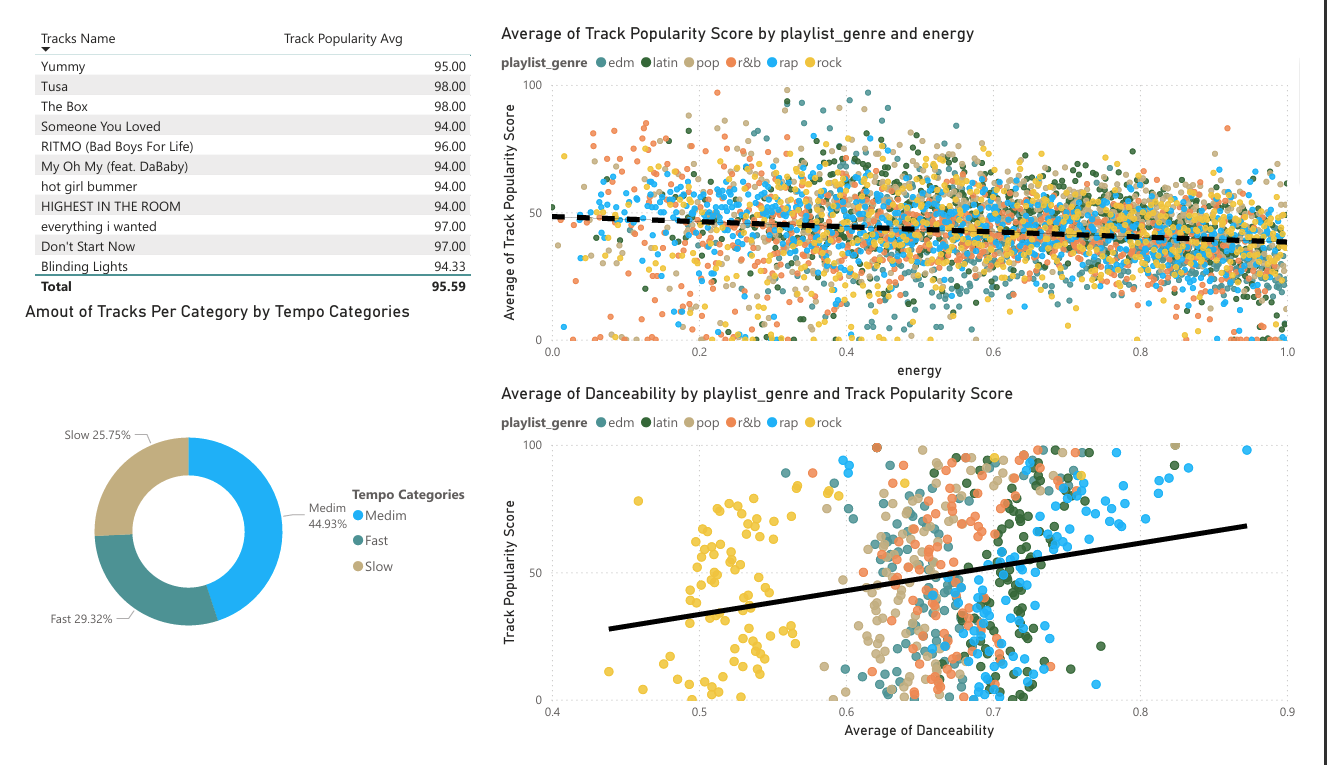

What the dashboard file says about the page in this screenshot:
{"tool":"powerbi","page":{"name":"Page 1","canvas":[1280,720],"ordinal":1},"visuals":[{"type":"tableEx","fields":{"Values":["spotify_songs.track_name","spotify_songs.Track Popularity Score"]},"box":[9.7,0,456.2,293.7],"z":0},{"type":"donutChart","fields":{"Category":["spotify_songs.Tempo_Category"],"Y":["spotify_songs.track_name"]},"box":[0,278.2,465.9,441.6],"z":1000},{"type":"scatterChart","fields":{"Y":["spotify_songs.Track Popularity Score"],"X":["spotify_songs.energy"],"Series":["spotify_songs.playlist_genre"]},"box":[475.6,0,804.4,359.9],"z":1001},{"type":"scatterChart","fields":{"X":["spotify_songs.Danceability"],"Y":["spotify_songs.Track Popularity Score"],"Series":["spotify_songs.playlist_genre"]},"box":[475.6,359.9,804.4,359.9],"z":1002}]}

Visuals, with their boxes in screenshot pixels (x1, y1, x2, y2), scaled from the page's 1280x720 canvas onto the 1327x765 screenshot:
tableEx - spotify_songs.track_name x spotify_songs.Track Popularity Score: Rect(10, 0, 483, 312)
donutChart - spotify_songs.Tempo_Category x spotify_songs.track_name: Rect(0, 296, 483, 764)
scatterChart - spotify_songs.Track Popularity Score x spotify_songs.energy: Rect(493, 0, 1326, 382)
scatterChart - spotify_songs.Danceability x spotify_songs.Track Popularity Score: Rect(493, 382, 1326, 764)
